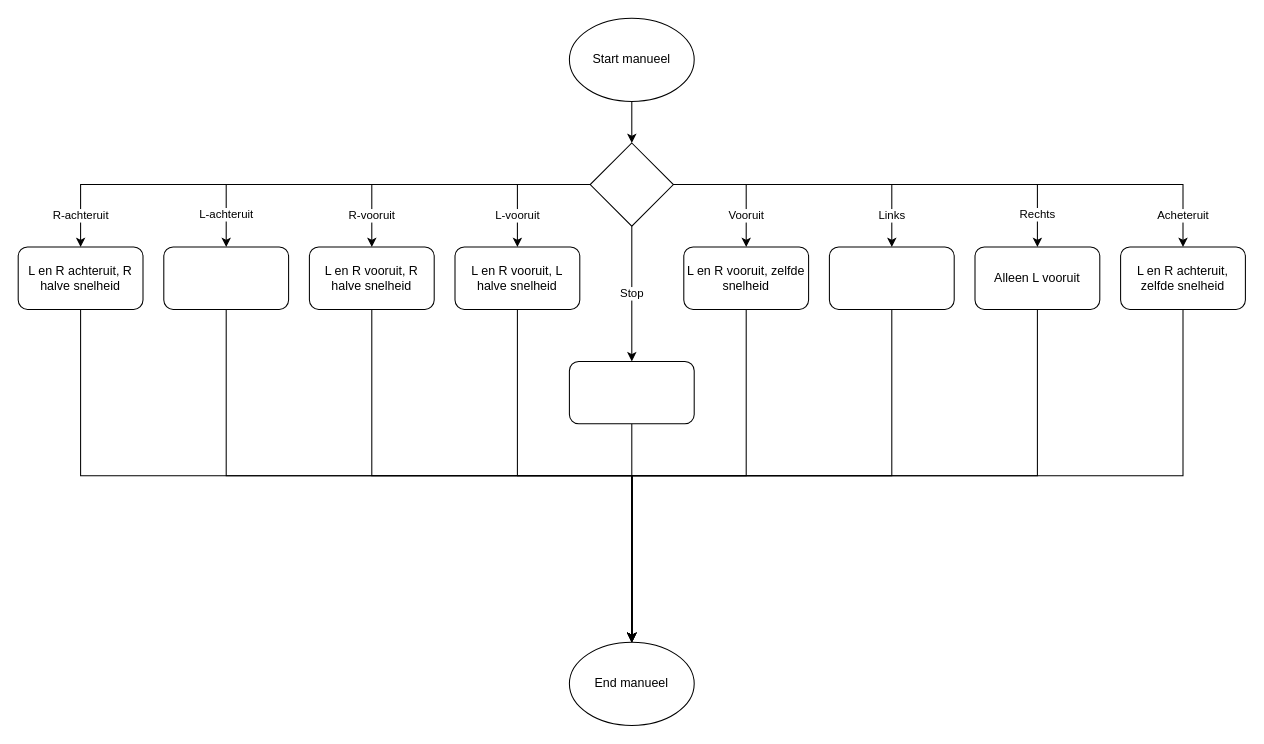
The diagram is 1264 pixels wide and 744 high, and some of its shapes have lost their labels. Here are the shapes that lost their labels. From the top down, the box of each, then its label:
(589, 142, 673, 226): Topic?
(163, 246, 289, 309): L en R achteruit, L halve snelheid
(828, 246, 954, 309): Alleen R vooruit
(568, 360, 694, 424): L en R stoppen
